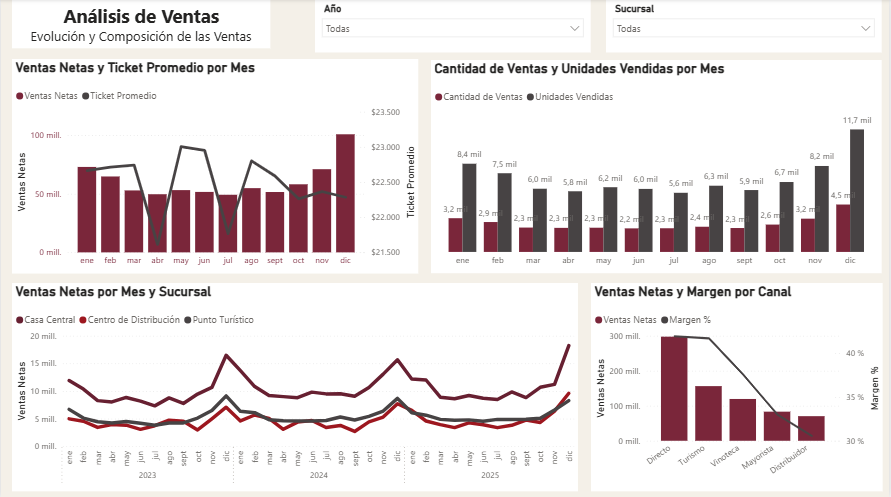

Layout of this report page (visuals, bound fields, positions):
{"tool":"powerbi","page":{"name":"Análisis de Ventas","canvas":[1280,720],"ordinal":1},"visuals":[{"type":"textbox","box":[15.8,0,371.5,70.6],"z":0},{"type":"slicer","fields":{"Values":["dim_calendario.Año"]},"box":[452.2,0,397,77],"z":1000},{"type":"slicer","fields":{"Values":["dim_sucursales1.nombre_sucursal"]},"box":[871.2,0,397,77],"z":2000},{"type":"lineStackedColumnComboChart","fields":{"Category":["dim_calendario.Mes Corto"],"Y":["Medidas (2).Ventas_Netas"],"Y2":["Medidas (2).Ticket_Promedio"]},"box":[16.1,86.3,585.4,308.8],"z":3000},{"type":"clusteredColumnChart","fields":{"Category":["dim_calendario.Mes Corto"],"Y":["Medidas (2).Cantidad_Ventas","Medidas (2).Unidades_Vendidas"]},"box":[619.2,87.8,649.4,306.7],"z":4000},{"type":"lineClusteredColumnComboChart","title":"Ventas Netas y Margen por Canal ","fields":{"Category":["fact_ventas4.canal_venta"],"Y":["Medidas (2).Ventas_Netas"],"Y2":["Medidas (2).Margen %"]},"box":[849.6,409,420.5,299.5],"z":5000},{"type":"lineChart","title":"Ventas Netas por Mes y Sucursal","fields":{"Category":["dim_calendario.Año","dim_calendario.Mes Corto"],"Y":["Medidas (2).Ventas_Netas"],"Series":["dim_sucursales1.nombre_sucursal"]},"box":[15.8,409,815,299.5],"z":6000}]}

Visuals, with their boxes in screenshot pixels (x1, y1, x2, y2), scaled from the page's 1280x720 canvas onto the 891x497 screenshot:
textbox: [x1=11, y1=0, x2=270, y2=49]
slicer - dim_calendario.Año: [x1=315, y1=0, x2=591, y2=53]
slicer - dim_sucursales1.nombre_sucursal: [x1=606, y1=0, x2=883, y2=53]
lineStackedColumnComboChart - dim_calendario.Mes Corto x Medidas (2).Ventas_Netas: [x1=11, y1=60, x2=419, y2=273]
clusteredColumnChart - dim_calendario.Mes Corto x Medidas (2).Cantidad_Ventas: [x1=431, y1=61, x2=883, y2=272]
"Ventas Netas y Margen por Canal " lineClusteredColumnComboChart: [x1=591, y1=282, x2=884, y2=489]
"Ventas Netas por Mes y Sucursal" lineChart: [x1=11, y1=282, x2=578, y2=489]
